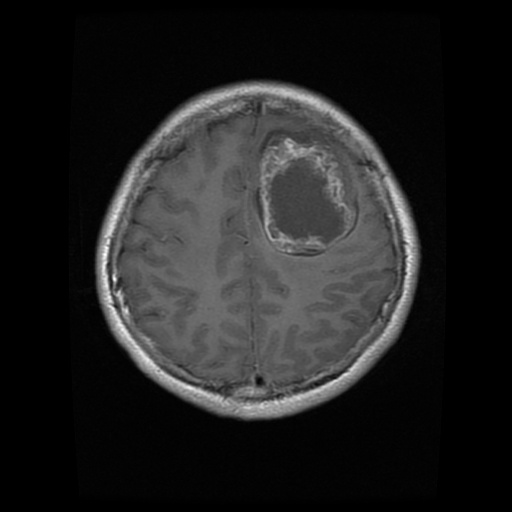glioma: (251, 127, 359, 257)
